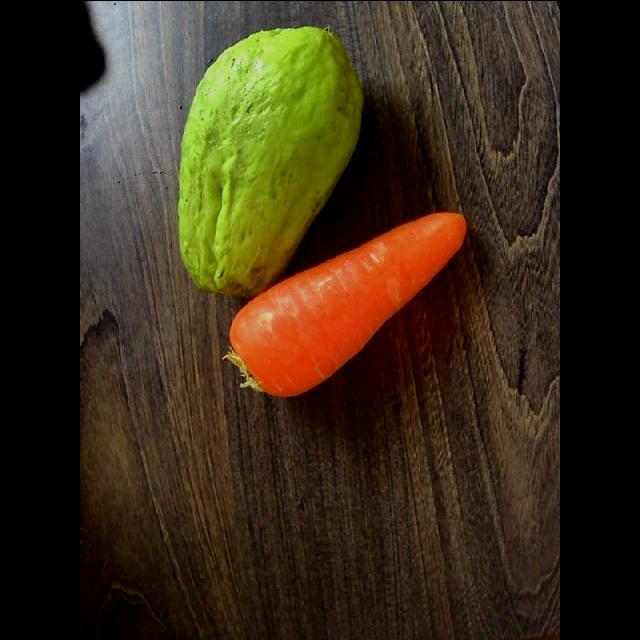chayote: (179, 26, 363, 296)
zanahoria: (225, 212, 466, 396)
